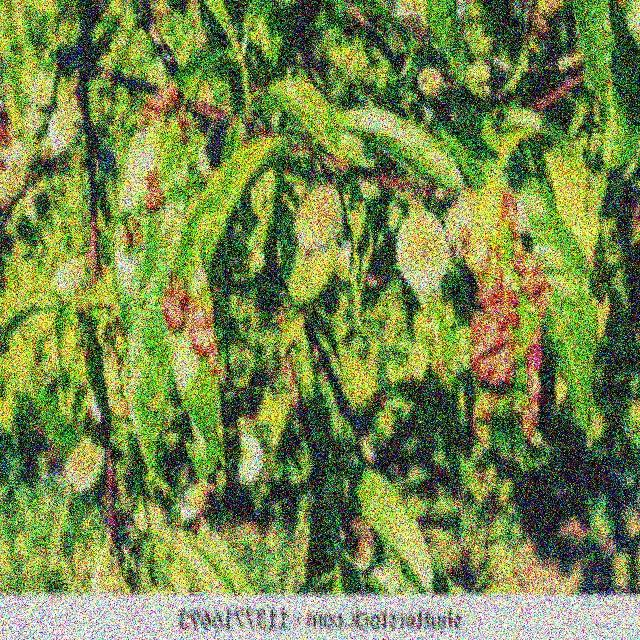leaf_curl: (398, 177, 568, 510), (104, 178, 274, 511)
